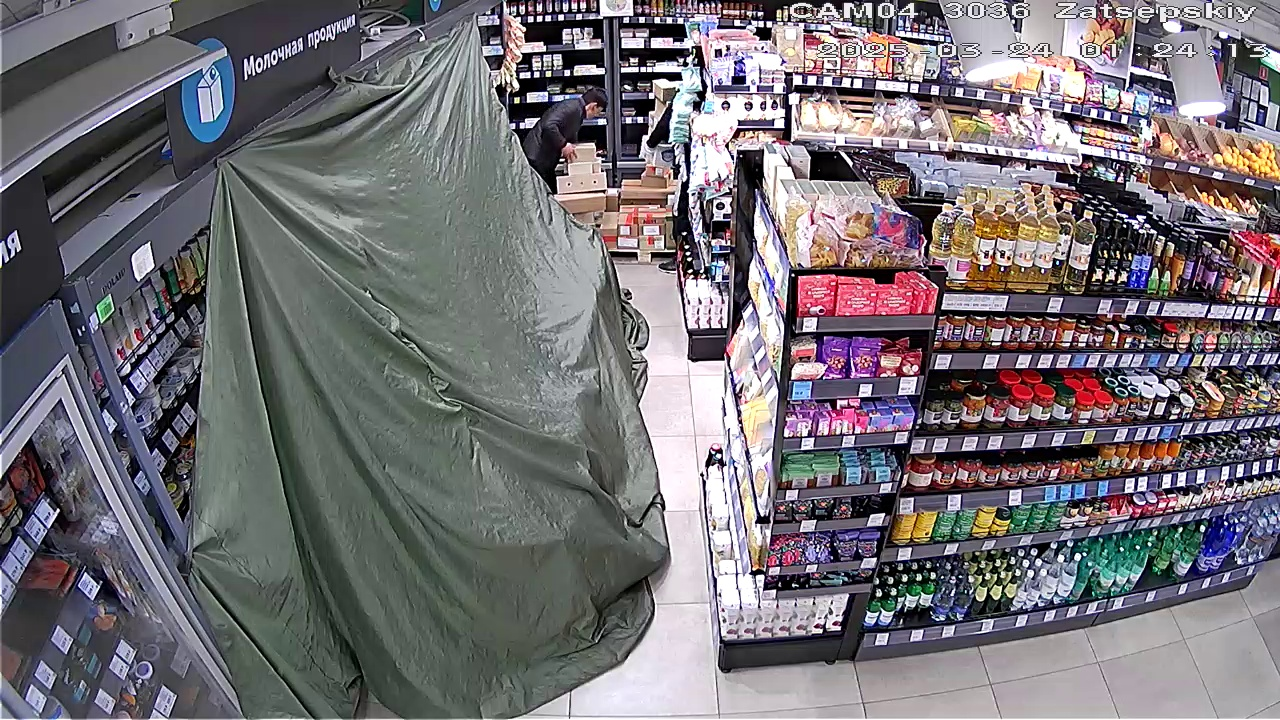Human: (514, 71, 602, 171)
dome: (224, 153, 644, 699)
pallet: (552, 152, 681, 248)
